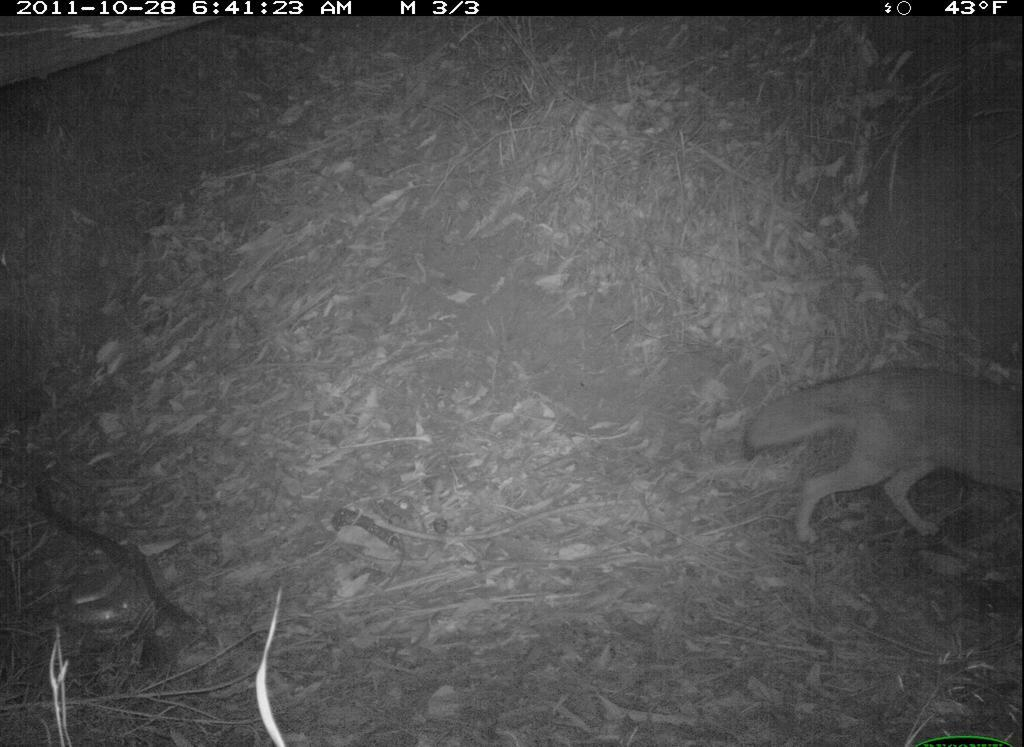coyote: (743, 336, 1023, 584)
